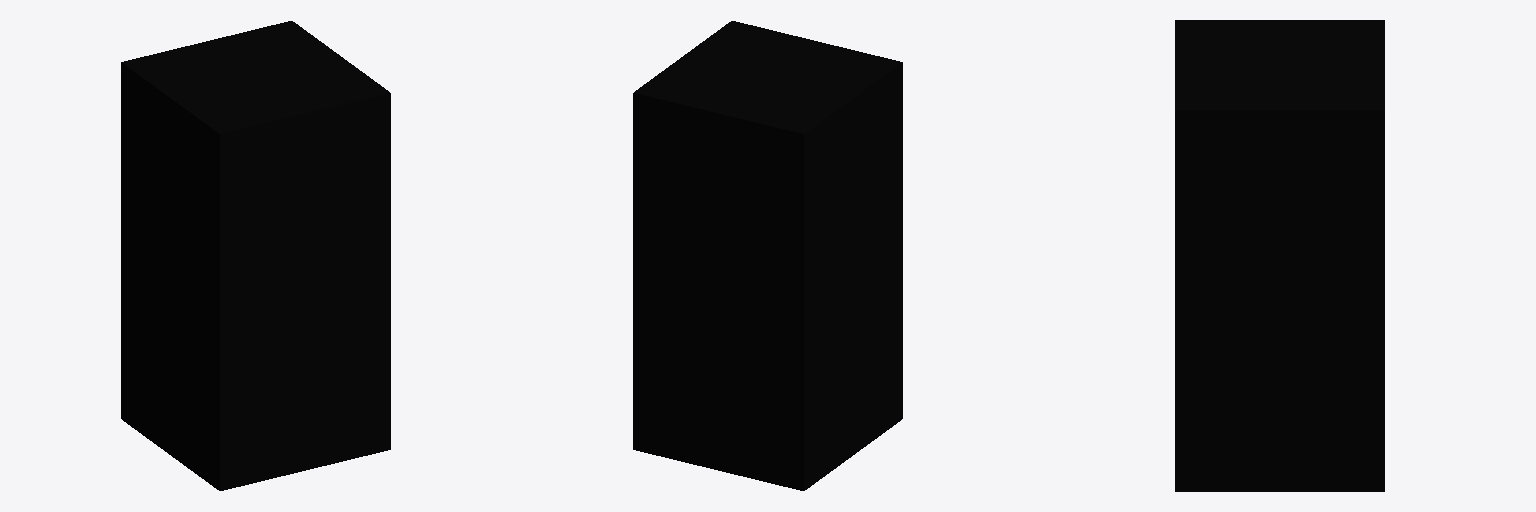
URDF robot description (luxtac_cuboid_vert):
<?xml version="1.0"?>
<!-- cuboid, long axis at 0 deg in the pad plane.
     Generated by scripts/make_luxtac_objs.py. Metres, centred on x,y, cross-section
     centre at z = 0.0452 (the pad centre once staged). Long axis at 0 deg in
     the x-z plane: 0 = along the finger, 90 = across it. Length 40mm,
     mass 1.500000 kg.

     The link is named 'cube' because TacSL resolves the indenter link by name. -->
<robot name="luxtac_cuboid_vert">
    <link name="cube">
        <visual>
            <geometry><mesh filename="../mesh/luxtac_cuboid_vert.obj"/></geometry>
            <material name="black"><color rgba="0.05 0.05 0.05 1"/></material>
        </visual>
        <collision>
            <geometry><mesh filename="../mesh/luxtac_cuboid_vert.obj"/></geometry>
            <sdf resolution="256"/>  <!-- 0.156mm voxels -->
        </collision>
        <inertial>
            <origin rpy="0 0 0" xyz="0 0 0.0452"/>
            <mass value="1.500000"/>
            <inertia ixx="2.500000e-04" ixy="0" ixz="0" iyy="2.500000e-04" iyz="0" izz="1.000000e-04"/>
        </inertial>
    </link>
</robot>

--- What the picture shows (computed from the rendered views, not written in the file) ---
3 views of the same robot in one strip: view 1: azimuth 30°, elevation 25°; view 2: azimuth 150°, elevation 25°; view 3: azimuth 270°, elevation 25° (orthographic).
Model luxtac_cuboid_vert with 1 links and 0 joints (none), rooted at cube, posed all joints at 0.
Links seen in each view (by area): view 1: cube; view 2: cube; view 3: cube.
Boxes of the visible links, <box> form: cube: <box>121,21,390,490</box>; cube: <box>633,21,902,490</box>; cube: <box>1175,20,1384,491</box>.
Bounding box of the posed robot: 0.02 × 0.02 × 0.04 m (x, y, z).
1 mesh visuals loaded from 1 distinct referenced files (1 OBJ).
